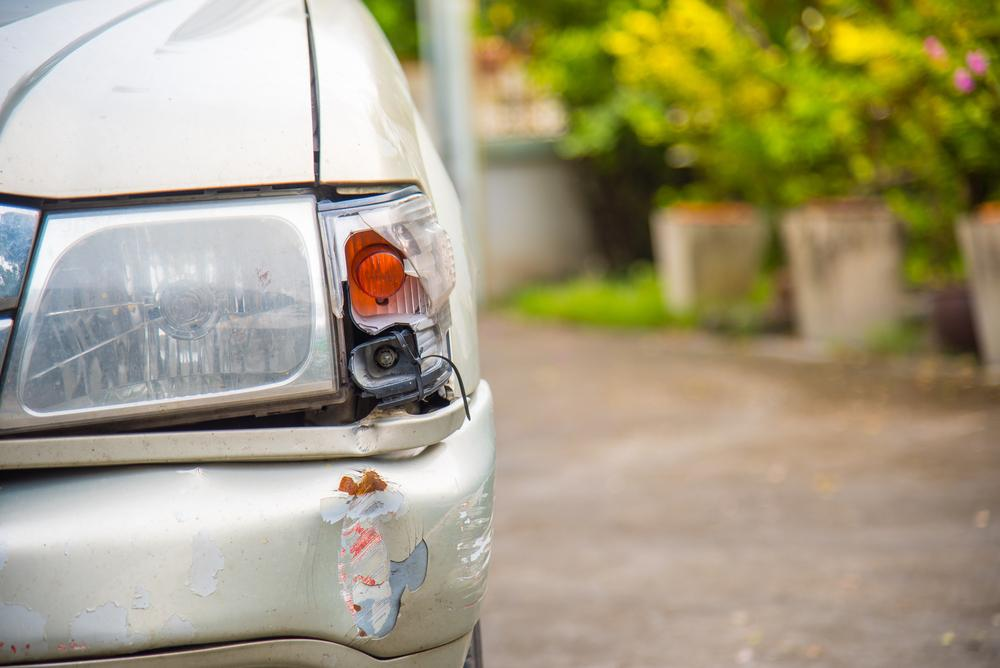dent: (314, 475, 414, 639)
lamp broken: (316, 186, 453, 415)
scratch: (454, 475, 497, 597)
